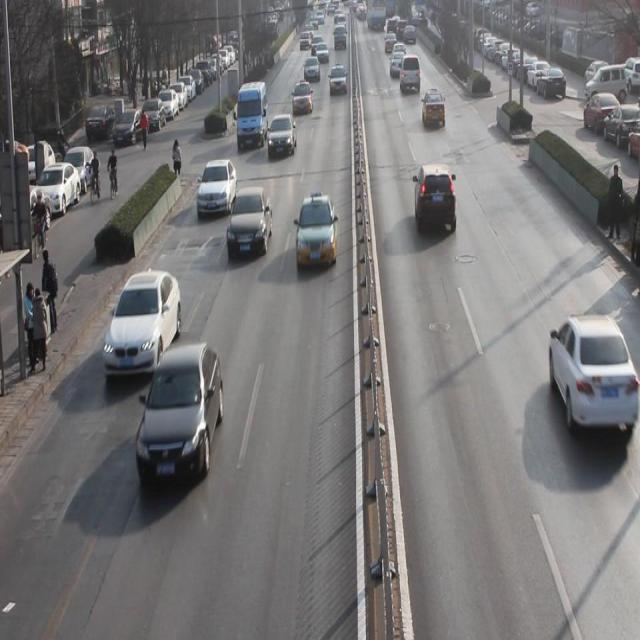car: (138, 347, 224, 490), (548, 316, 626, 439), (103, 274, 182, 374), (296, 195, 338, 272), (414, 164, 457, 239), (228, 189, 272, 261), (195, 160, 237, 216), (267, 115, 298, 160), (423, 89, 446, 128), (292, 80, 314, 118), (329, 66, 348, 98), (304, 55, 321, 84)
truck: (236, 80, 268, 150), (399, 56, 422, 94)
